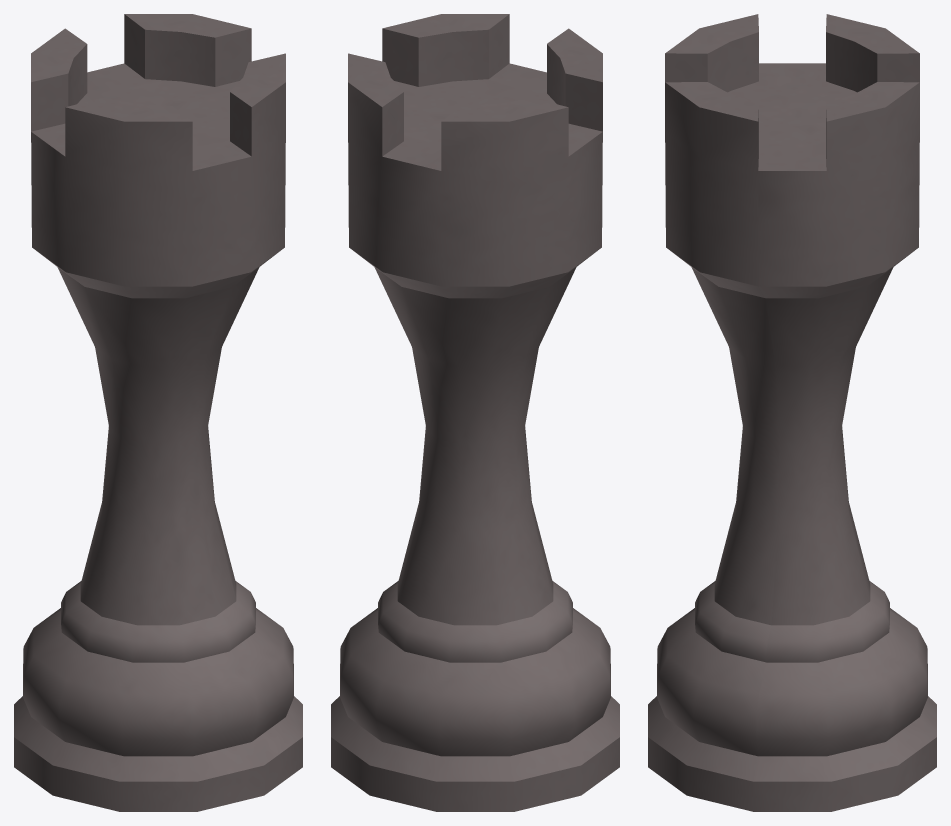
The model's file is Chess_Black_bishop.fbx.
3 renders of one model, left to right at view 1: azimuth 30°, elevation 25°; view 2: azimuth 150°, elevation 25°; view 3: azimuth 270°, elevation 25°, orthographic.
Parts seen in each view (by area): view 1: Chess_pawn; view 2: Chess_pawn; view 3: Chess_pawn.
Boxes of the visible parts, box(x1,y1,x2,y2) form: Chess_pawn: box(14, 14, 302, 811); Chess_pawn: box(331, 14, 619, 811); Chess_pawn: box(648, 14, 936, 811).
Bounding box in the file's own units: 21.41 × 55.85 × 21.41.
